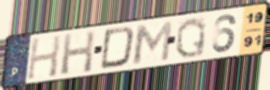6: (211, 13, 237, 53)
D: (98, 25, 137, 71)
H: (25, 33, 63, 81), (60, 28, 97, 77)
M: (132, 19, 175, 66)
Q: (174, 16, 208, 60)
